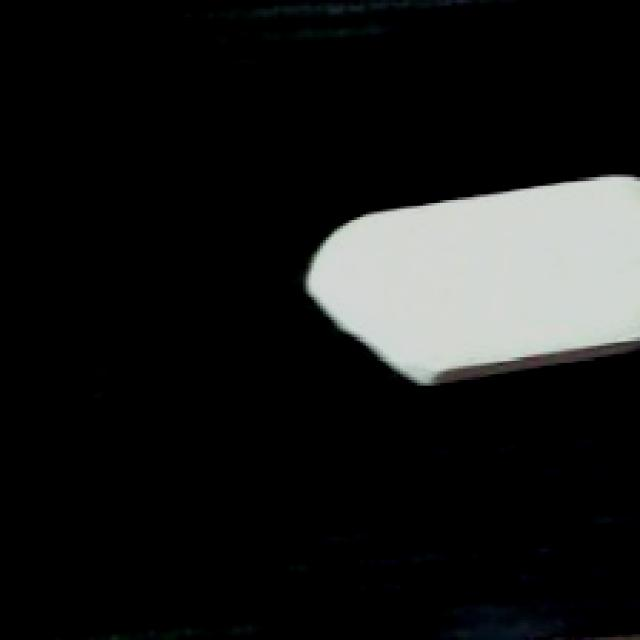defected: (297, 168, 640, 388)
